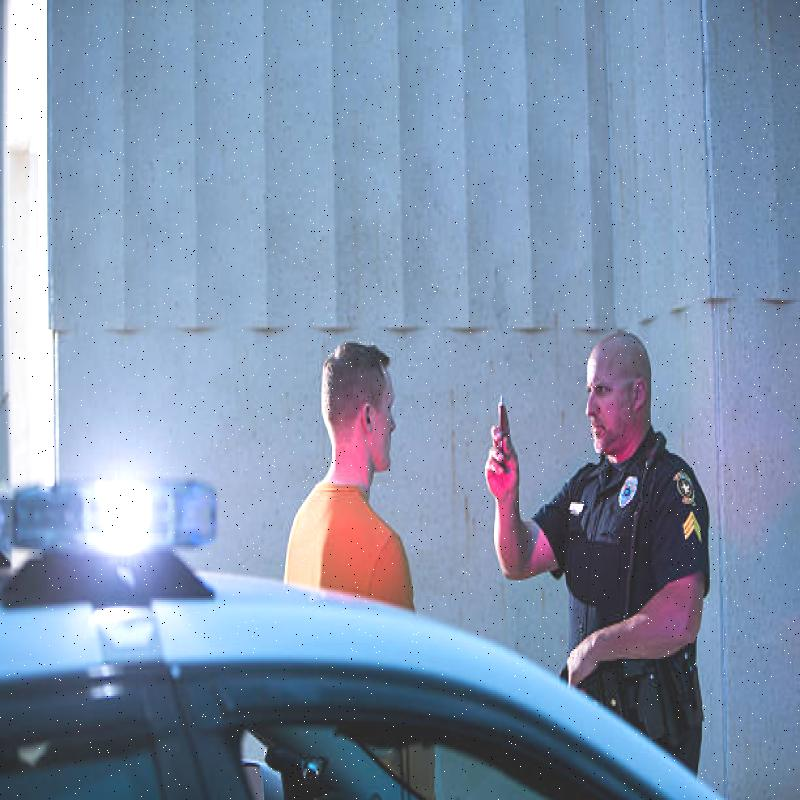AmbulanceSiren: (0, 458, 206, 597)
